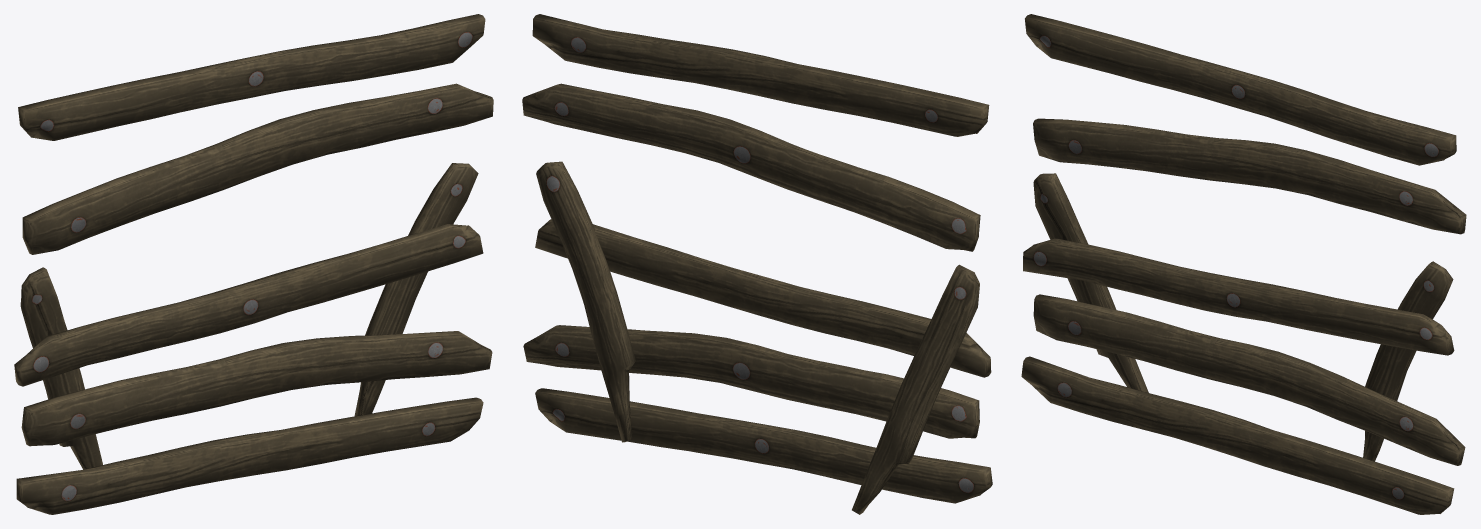
File: wood_panel_B.fbx
3 renders of one model, left to right at view 1: azimuth 30°, elevation 25°; view 2: azimuth 150°, elevation 25°; view 3: azimuth 330°, elevation 25°, orthographic. The views are drawn at different scales.
Visible parts, largest first — view 1: wood_panel_B; view 2: wood_panel_B; view 3: wood_panel_B.
Part boxes in pixels (x1=…): wood_panel_B: x1=14, y1=14, x2=493, y2=514; wood_panel_B: x1=522, y1=14, x2=992, y2=514; wood_panel_B: x1=1021, y1=14, x2=1466, y2=514.
Size of what is drawn, in the model's own units: 411 by 360 by 48.85.
Materials: 1 (1 with a texture image).
